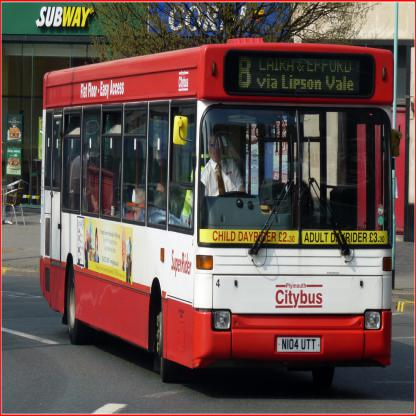Bus: (38, 37, 403, 385)
